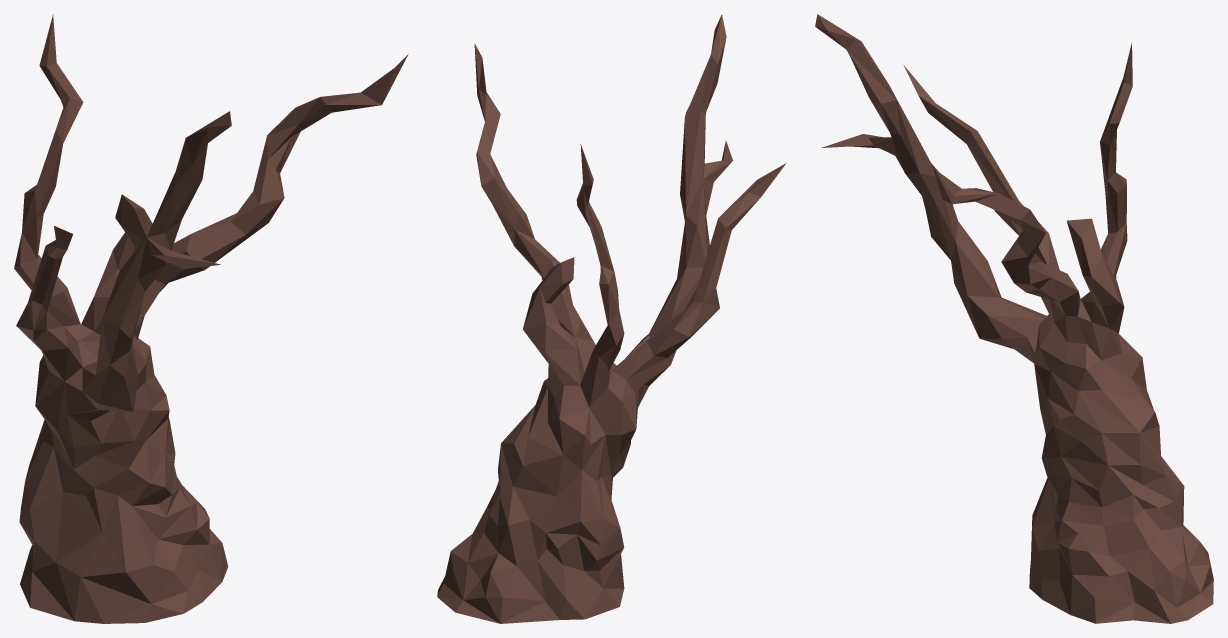
Rendered from fantasy_plant_049.fbx.
3 views of the same model, side by side, from view 1: azimuth 30°, elevation 25°; view 2: azimuth 150°, elevation 25°; view 3: azimuth 270°, elevation 25° (orthographic). The views are drawn at different scales.
Visible parts, largest first — view 1: fantasy_plant.049; view 2: fantasy_plant.049; view 3: fantasy_plant.049.
Part boxes in pixels (x1,y1,x2,y2): fantasy_plant.049: (14, 14, 408, 623); fantasy_plant.049: (437, 14, 786, 623); fantasy_plant.049: (815, 14, 1213, 623).
Bounding box in the file's own units: 1524 × 2383 × 1587.
1 material, 1 textured.
